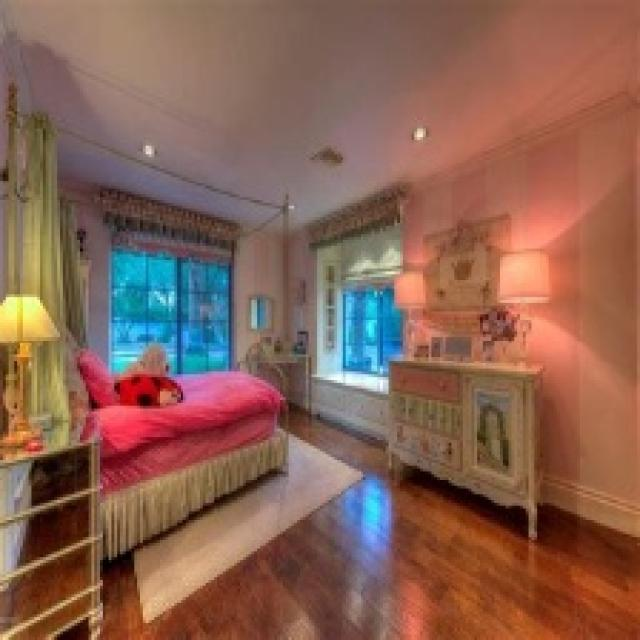Bed: (69, 366, 288, 563)
